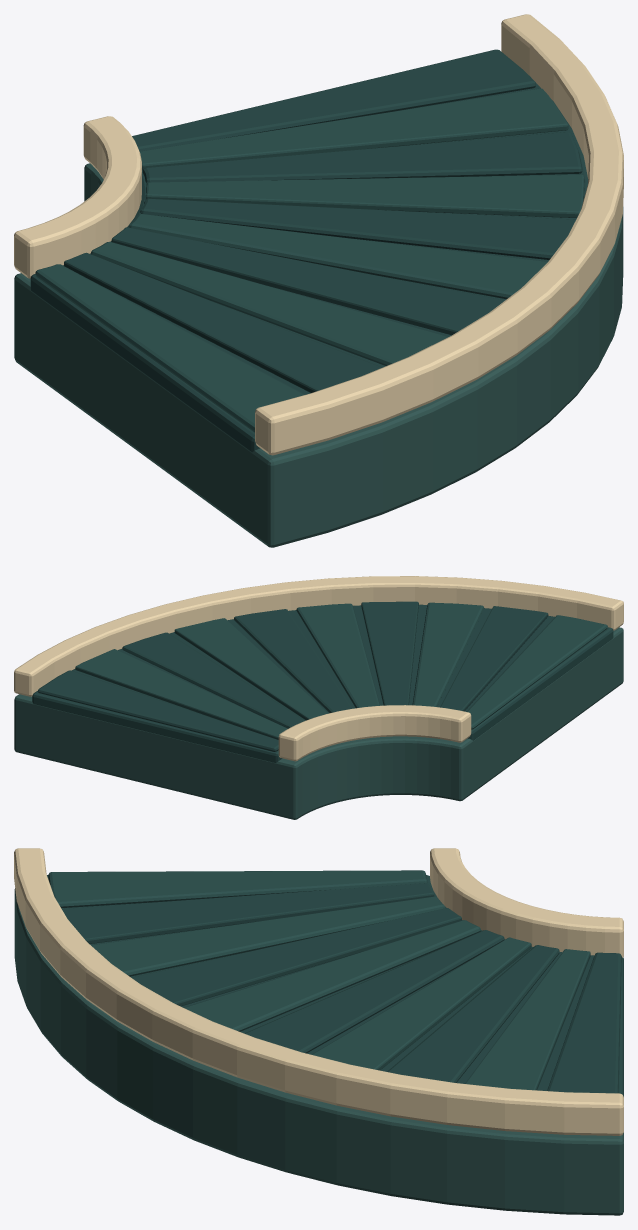
File: Belt_Corner_90_Left.fbx
3 views of the same model, one above another, from view 1: azimuth 30°, elevation 25°; view 2: azimuth 150°, elevation 25°; view 3: azimuth 270°, elevation 25° (orthographic). The views are drawn at different scales.
Visible parts, largest first — view 1: Slats, Body, BeltSurface; view 2: Body, Slats, BeltSurface; view 3: Body, Slats, BeltSurface.
Boxes of the visible parts, <box> form: Slats: <box>35,49,584,432</box>; Body: <box>14,14,623,547</box>; BeltSurface: <box>30,75,588,452</box>; Body: <box>14,576,623,819</box>; Slats: <box>37,601,607,751</box>; BeltSurface: <box>32,604,613,762</box>; Body: <box>14,848,623,1215</box>; Slats: <box>48,870,621,1093</box>; BeltSurface: <box>47,875,623,1096</box>.
Size of the model in its own units: 1.7 by 0.348 by 1.7.
